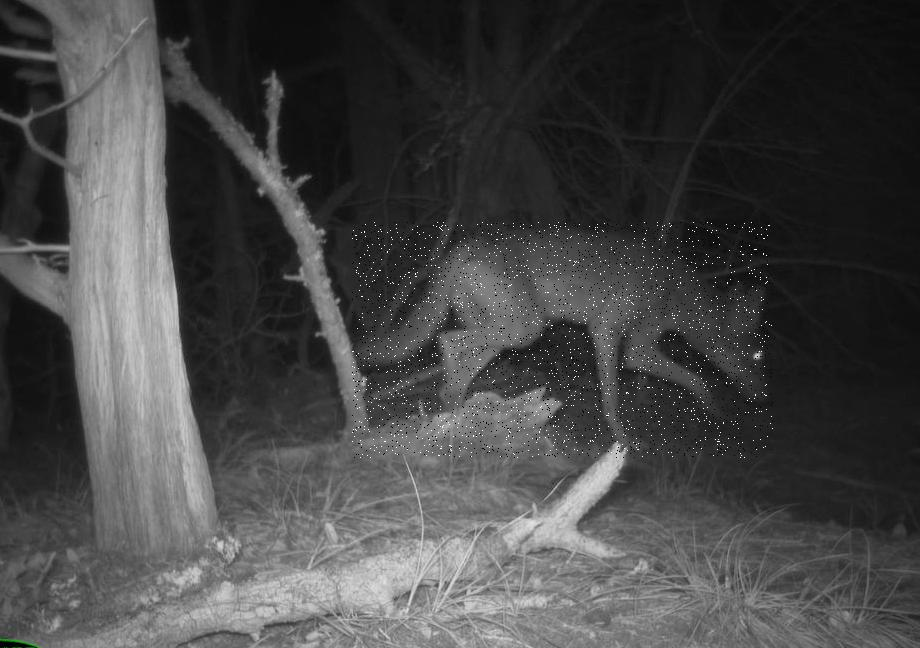Coyote: (352, 223, 773, 459)
